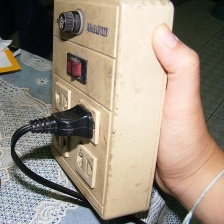three_eye_plug: (43, 0, 178, 224)
